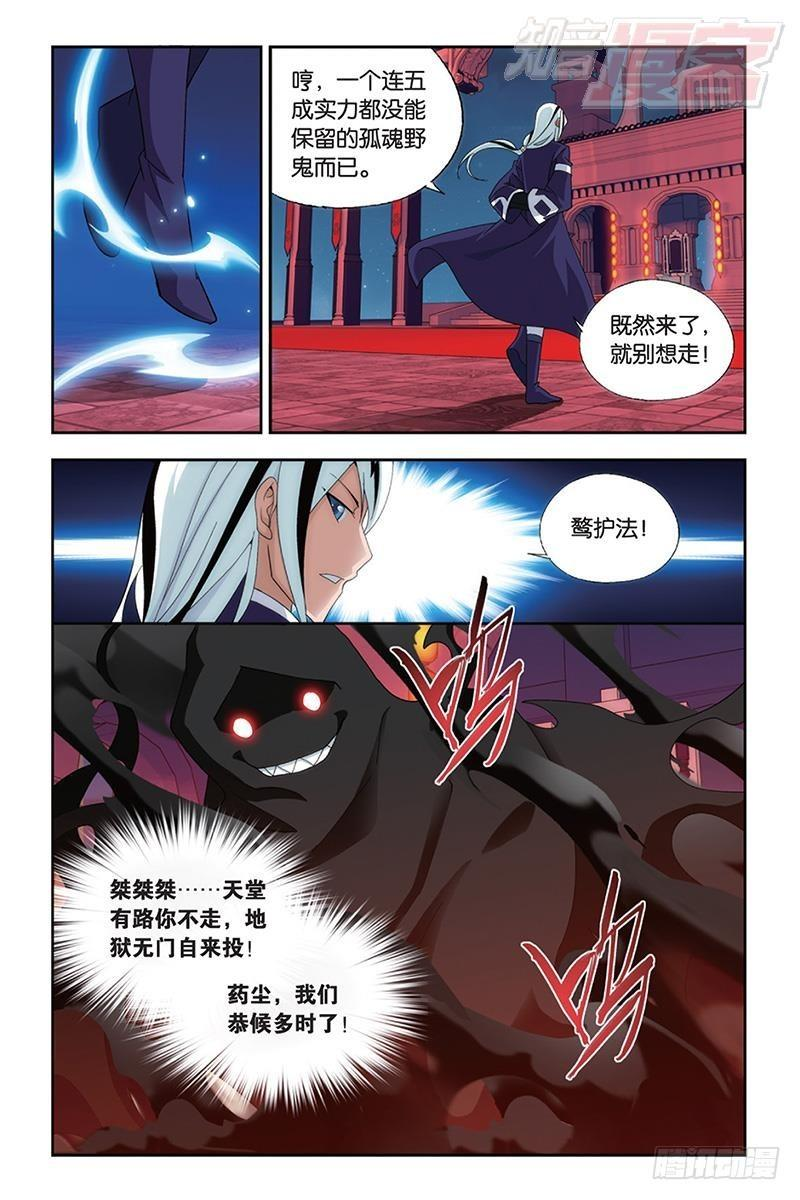boxEllipse: (270, 44, 465, 206), (570, 275, 732, 398), (525, 470, 678, 581)
boxFlash: (153, 974, 423, 1109), (50, 805, 269, 964)
minBox: (46, 623, 751, 1157), (267, 41, 747, 431), (48, 458, 747, 629), (48, 41, 261, 434)
